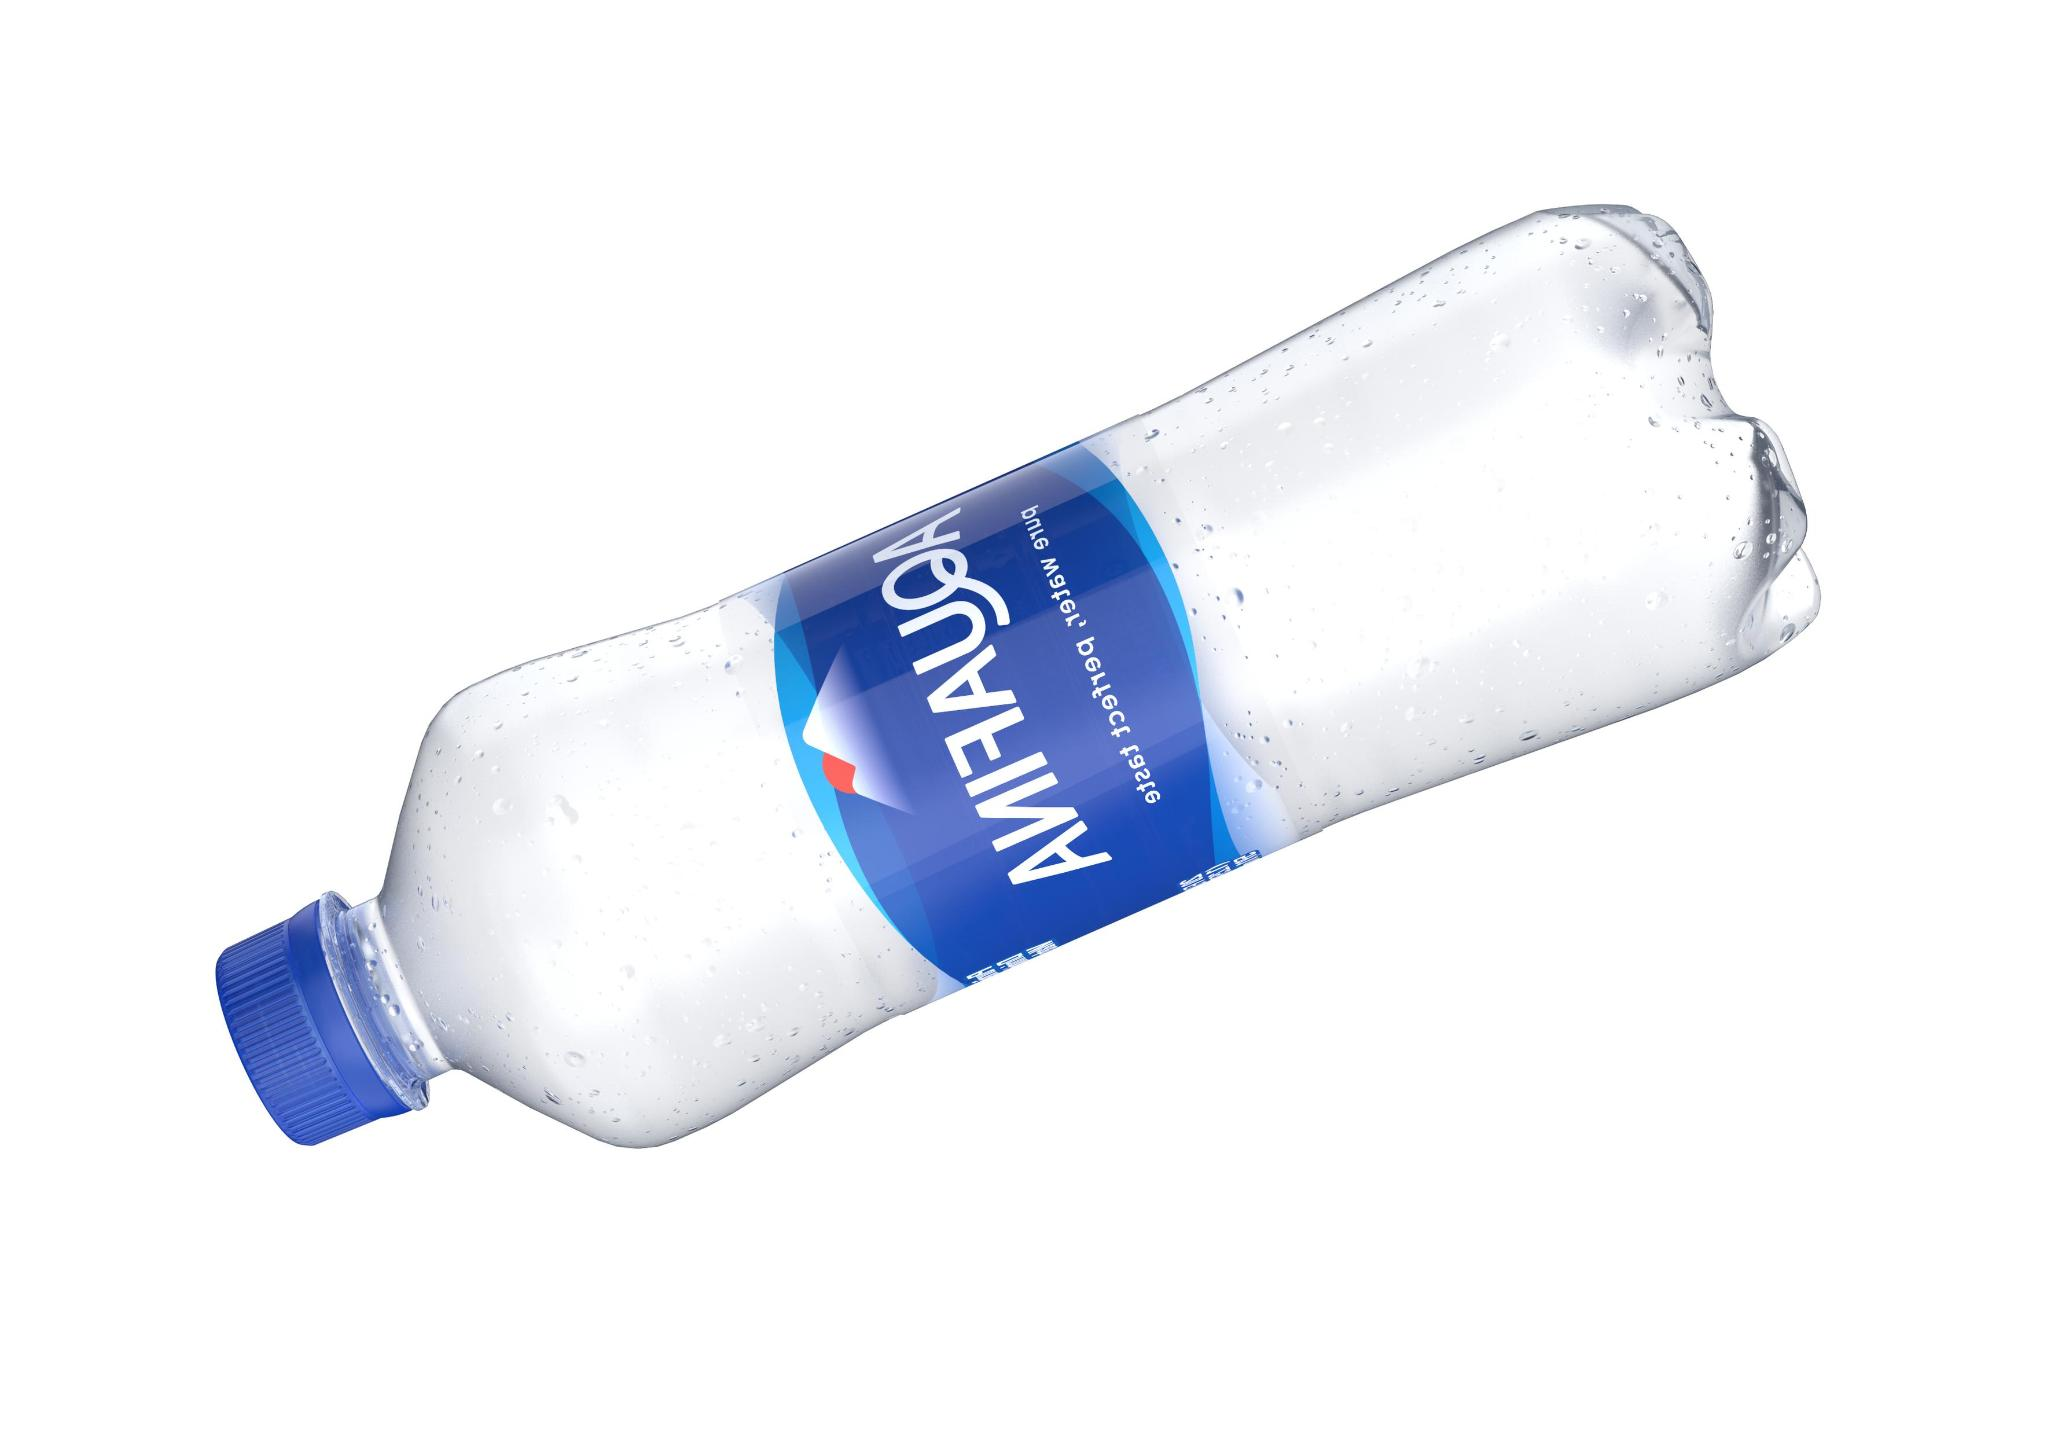bottle: (194, 182, 1823, 1187)
